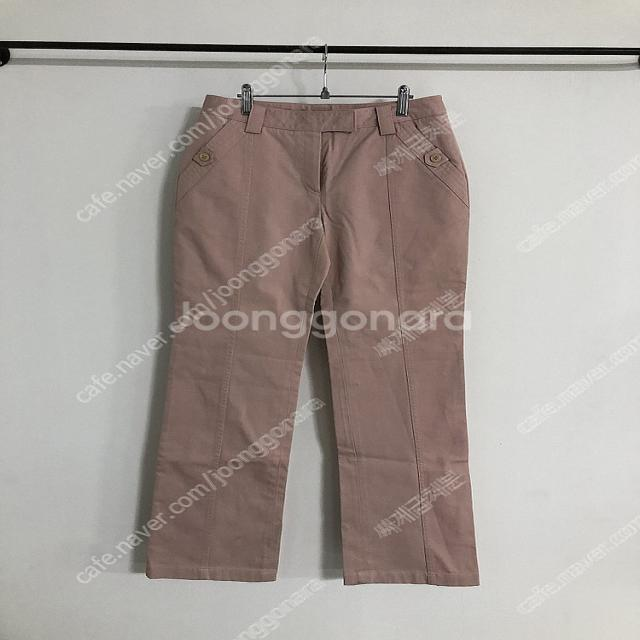long-pants: (120, 95, 482, 590)
